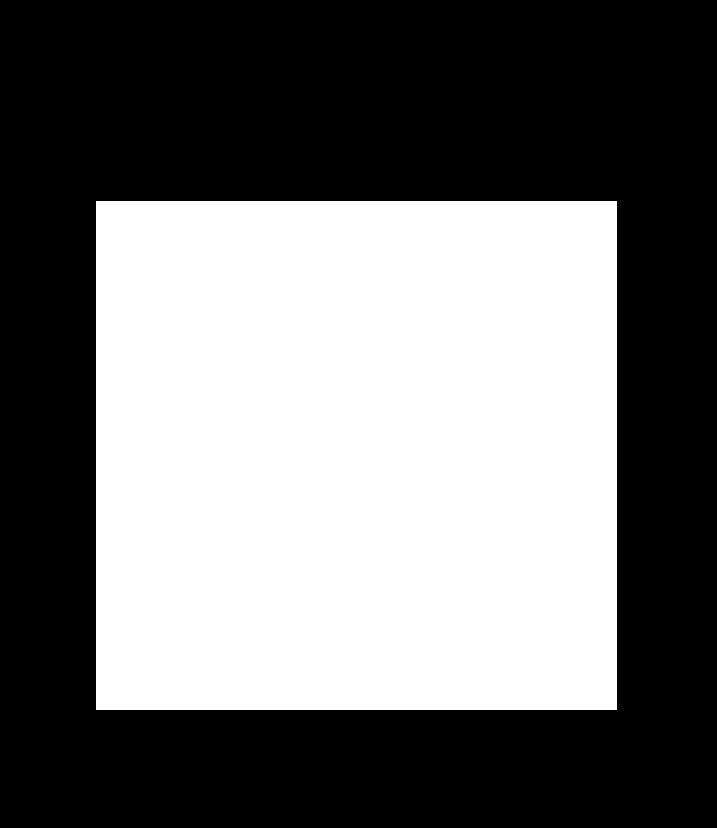table: (96, 201, 616, 709)
